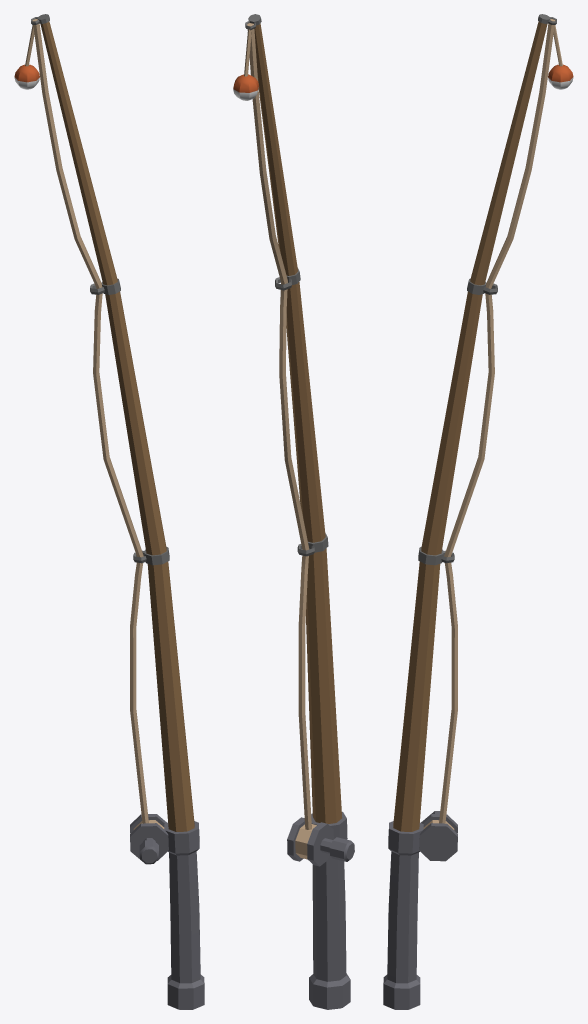
The model's file is FishingRod_01.fbx.
3 views of the same model, side by side, from view 1: azimuth 90°, elevation 25°; view 2: azimuth 150°, elevation 25°; view 3: azimuth 270°, elevation 25° (orthographic). The views are drawn at different scales.
Parts seen in each view (by area): view 1: FishingRod_01_LOD0; view 2: FishingRod_01_LOD0; view 3: FishingRod_01_LOD0.
Boxes of the visible parts, box(x1,y1,x2,y2) form: FishingRod_01_LOD0: box(14, 14, 204, 1009); FishingRod_01_LOD0: box(233, 14, 354, 1009); FishingRod_01_LOD0: box(383, 14, 573, 1009).
Size of what is drawn, in the model's own units: 0.0858 by 1.49 by 0.2604.
